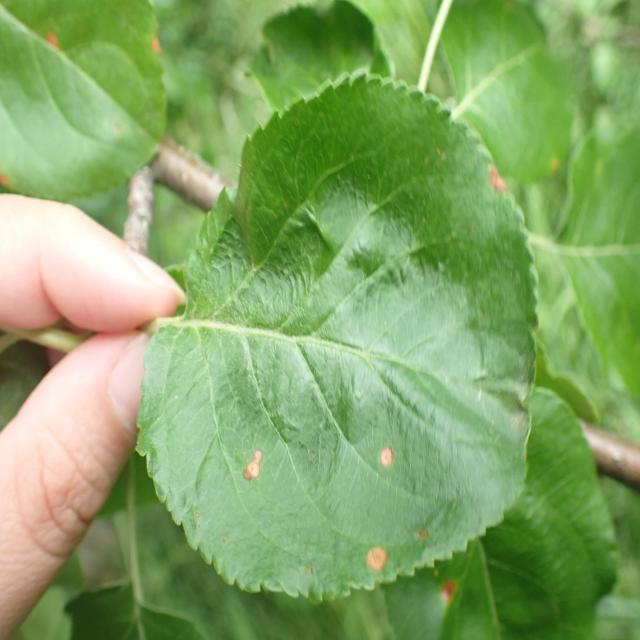frog-eye-leaf-spot: (135, 69, 537, 606), (0, 1, 168, 201)
